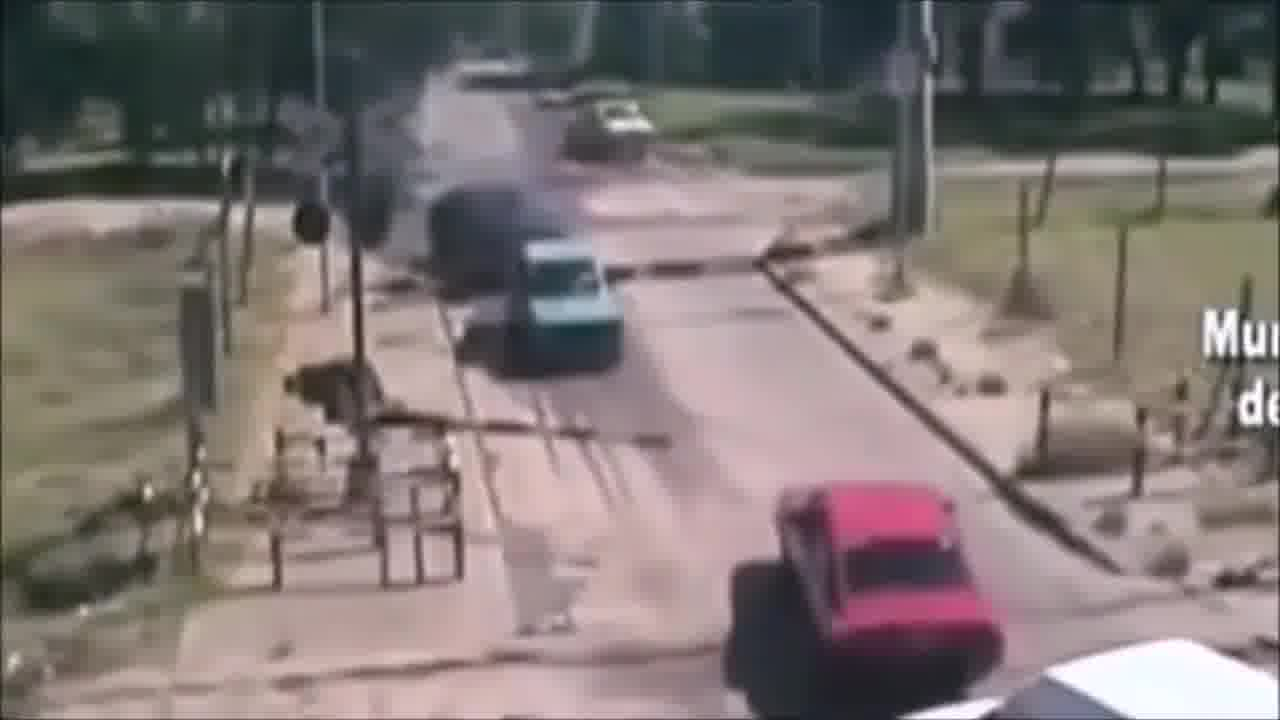crossing railway track: (736, 441, 1064, 719)
